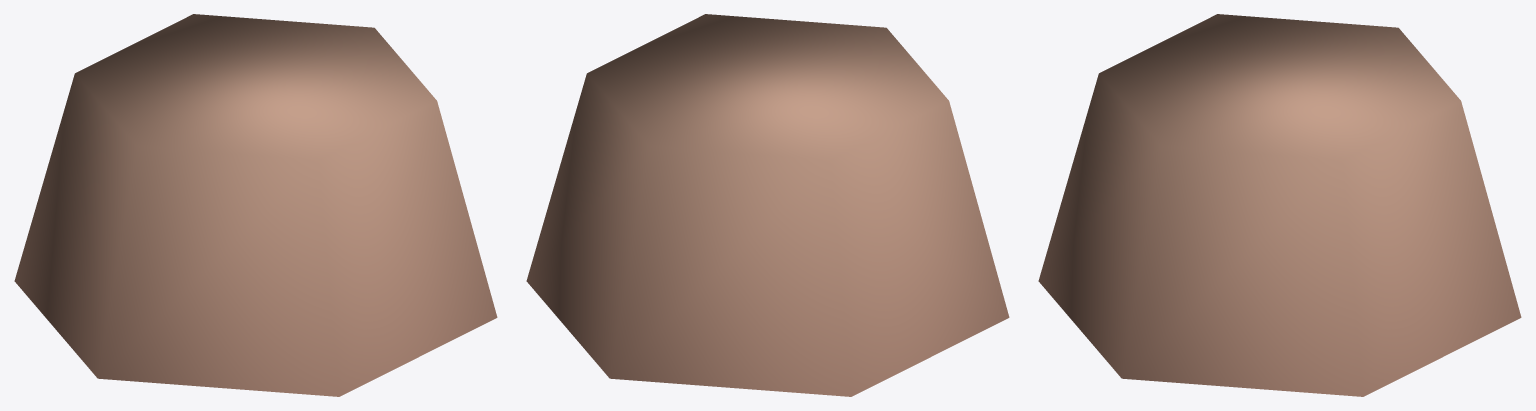
Rendered from (%no-merge) 4_0.glb.
3 renders of one model, left to right at view 1: azimuth 30°, elevation 25°; view 2: azimuth 150°, elevation 25°; view 3: azimuth 270°, elevation 25°, orthographic.
Parts seen in each view (by area): view 1: (%no-merge) 4; view 2: (%no-merge) 4; view 3: (%no-merge) 4.
Part boxes in pixels (box(x1,y1,x2,y2)): (%no-merge) 4: box(14, 14, 497, 396); (%no-merge) 4: box(526, 14, 1009, 396); (%no-merge) 4: box(1038, 14, 1521, 396).
Bounding box in the file's own units: 0.0394 × 0.02 × 0.0412.
